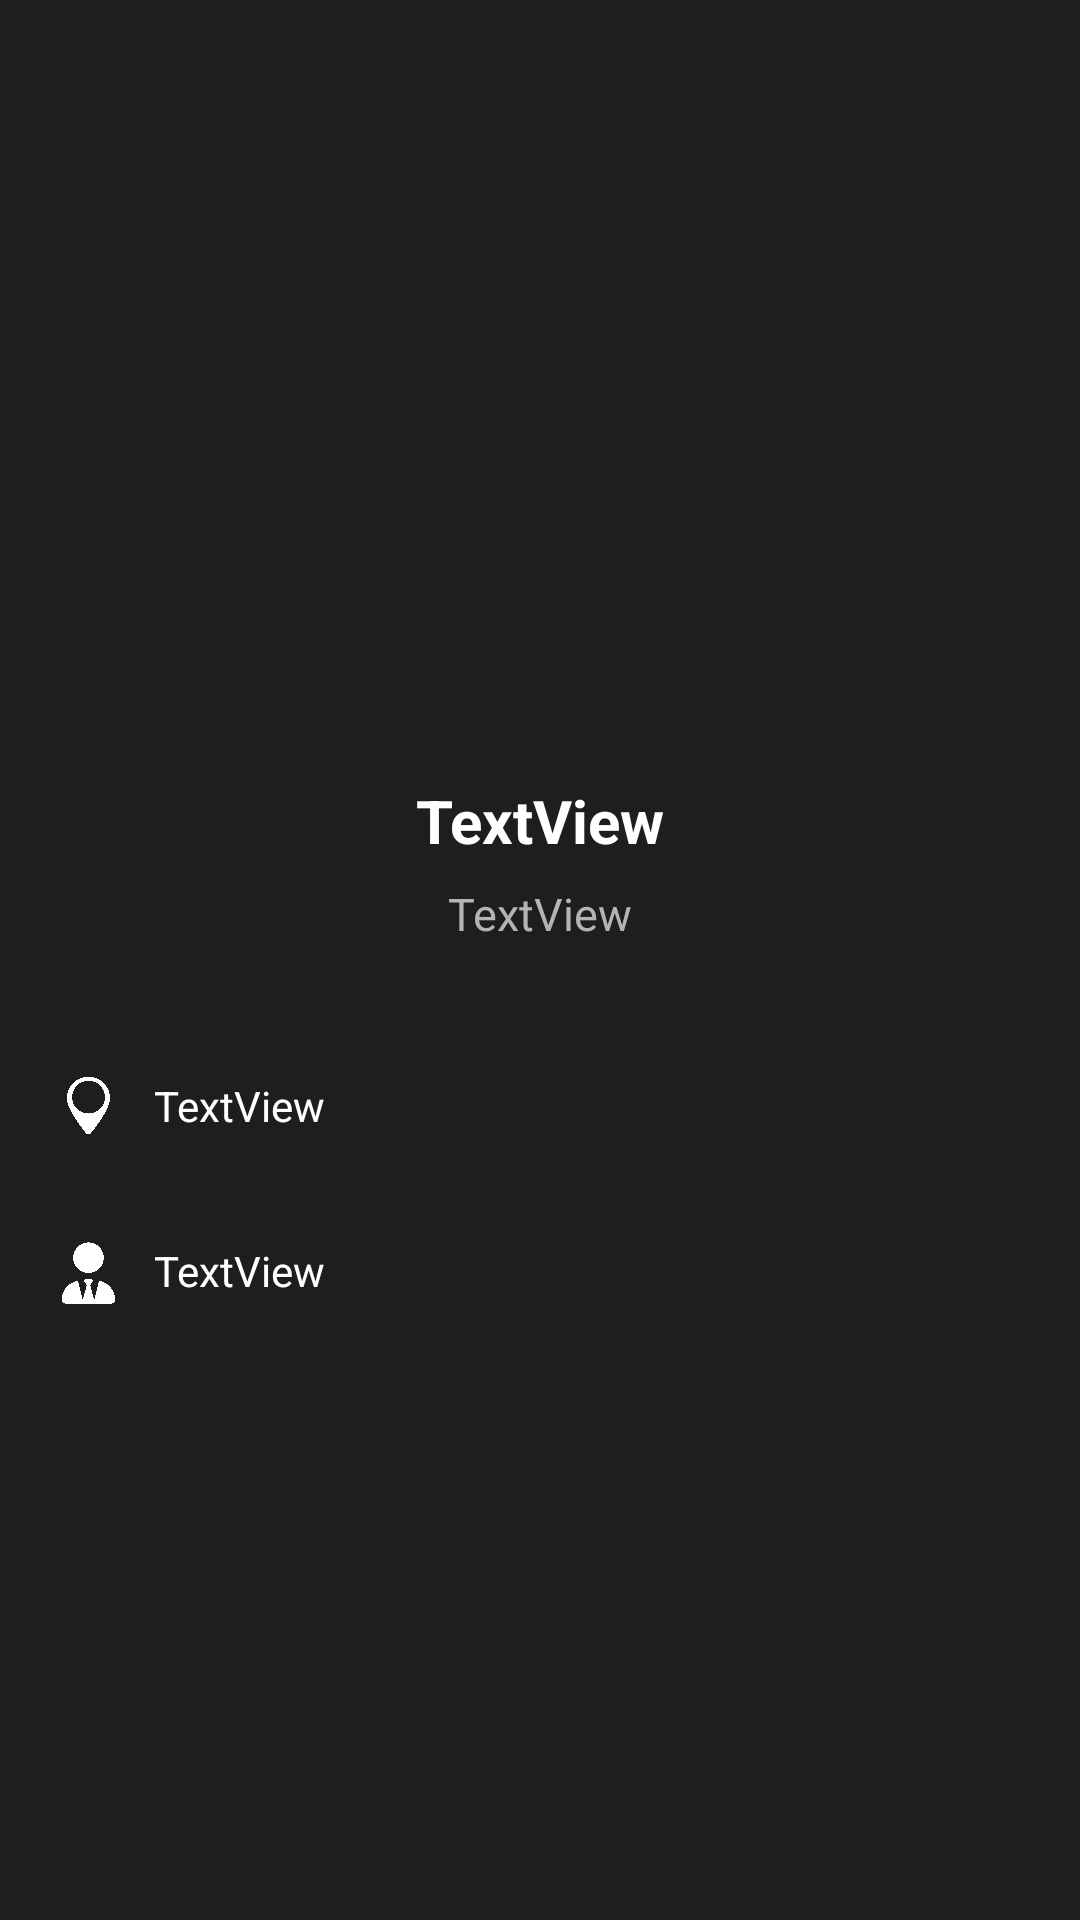

Icons on this 1080px x 1920px Android screen, each with the point to tap as [x,y]:
location: [88,1105]
user: [88,1273]
